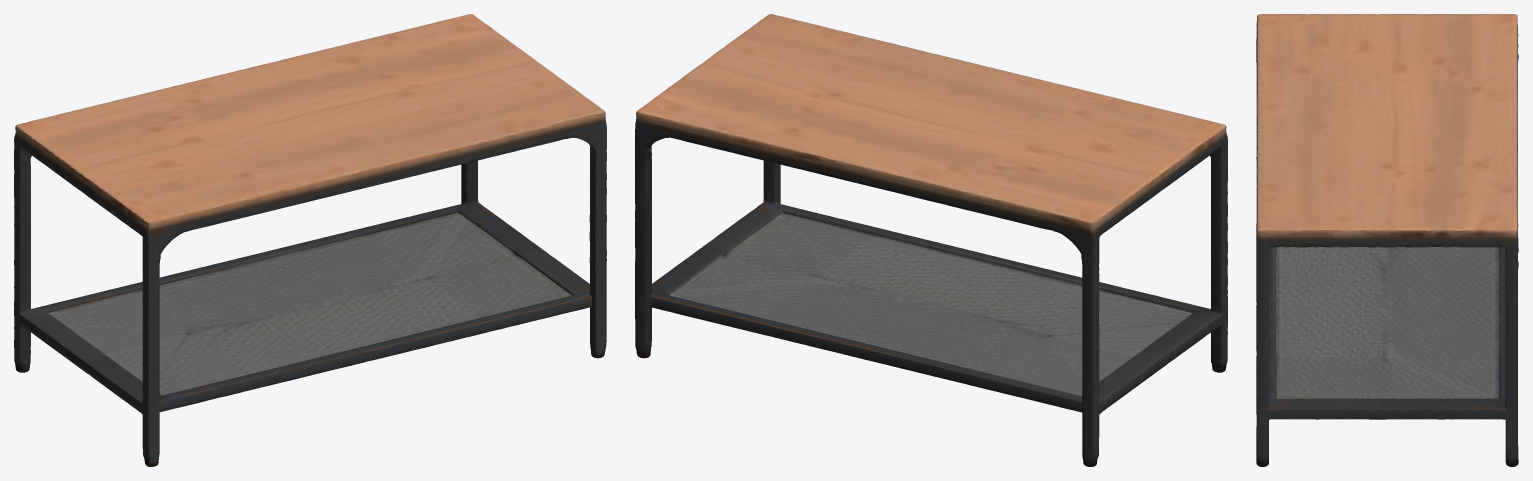
The picture shows the model from 3 angles, left to right: view 1: azimuth 30°, elevation 25°; view 2: azimuth 150°, elevation 25°; view 3: azimuth 270°, elevation 25°; orthographic projection. The views are drawn at different scales.
Visible parts, largest first — view 1: Orientation correction; view 2: Orientation correction; view 3: Orientation correction.
Boxes of the visible parts, x1,y1,x2,y2 form: Orientation correction: (14,14,606,466); Orientation correction: (635,14,1227,466); Orientation correction: (1256,14,1518,466).
Bounding box in the file's own units: 0.9 × 0.46 × 0.46.
Materials: 1 (1 with a texture image).
